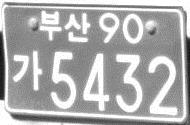0: (122, 12, 145, 46)
2: (146, 55, 181, 118)
3: (113, 50, 145, 114)
4: (82, 51, 111, 113)
5: (47, 48, 79, 111)
9: (97, 11, 121, 43)
가: (11, 48, 43, 92)
부산_O: (37, 7, 91, 43)
